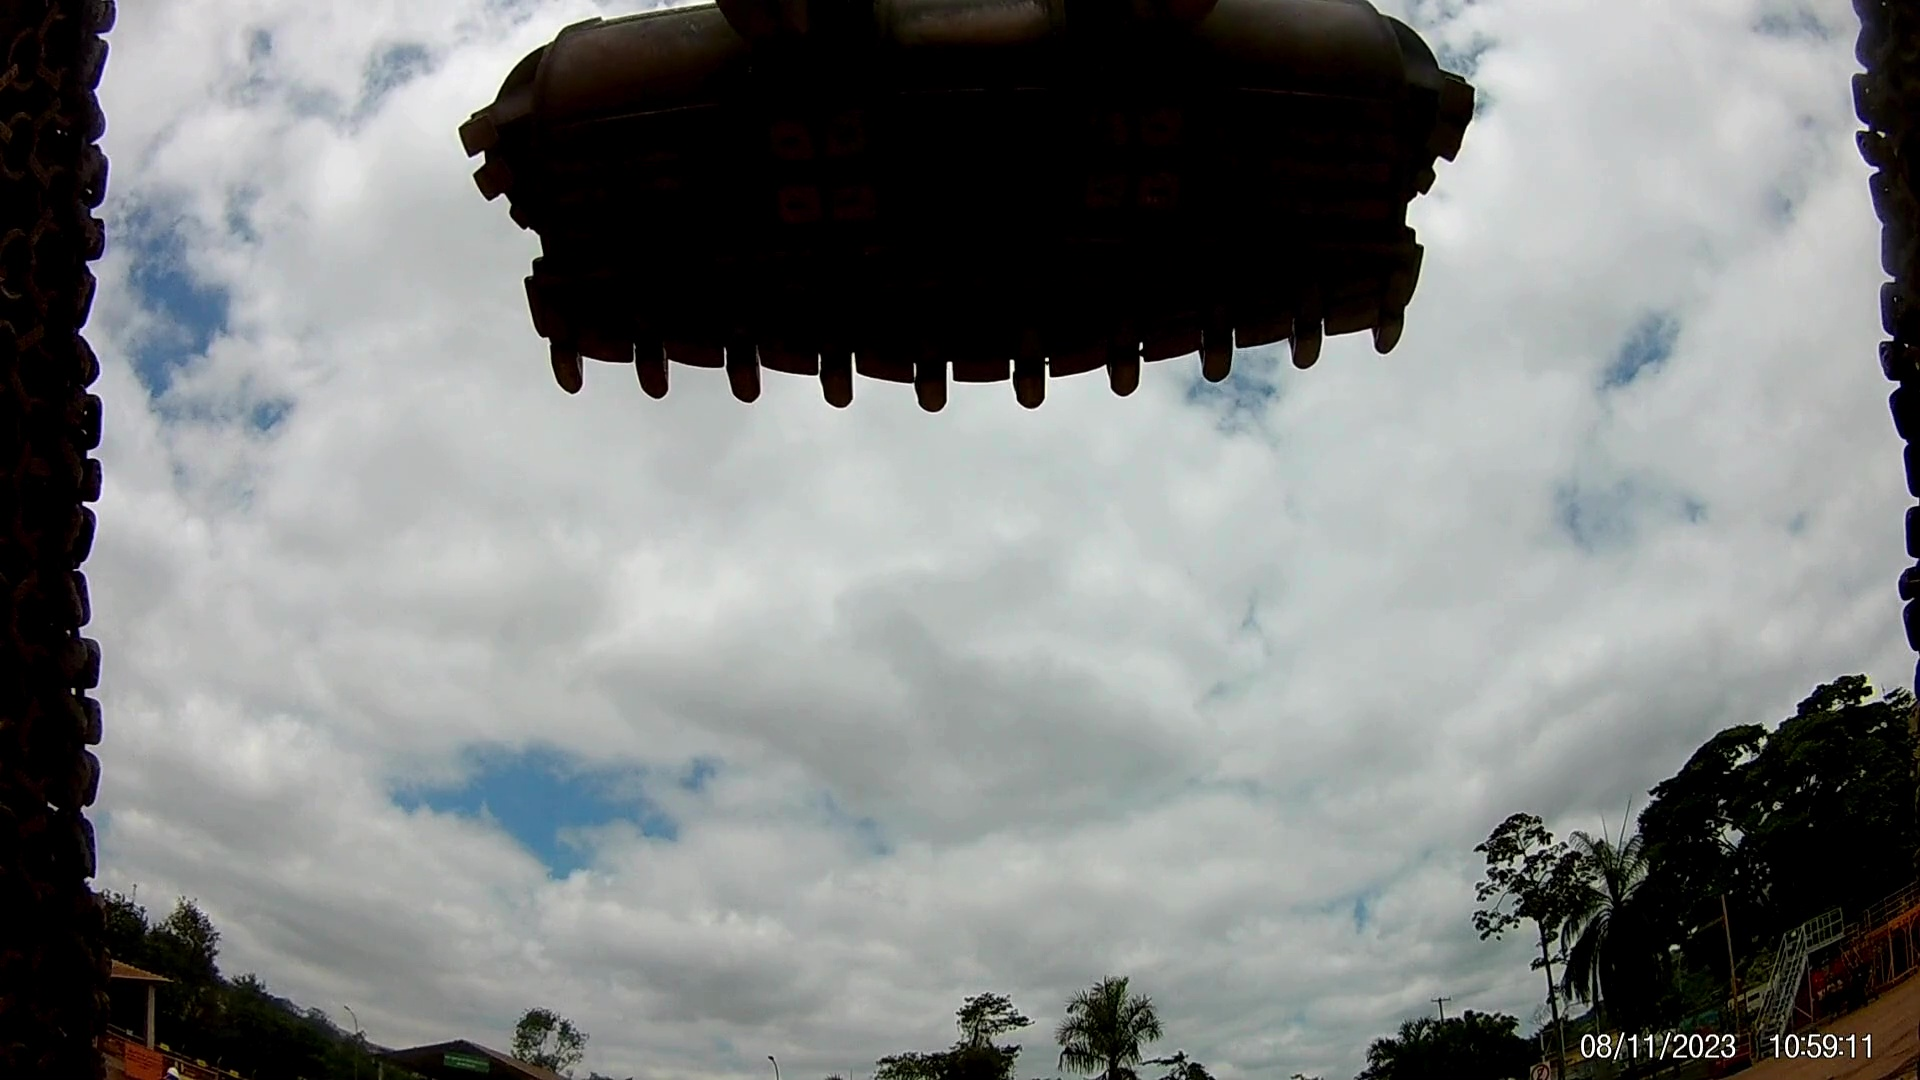FPS: (799, 336, 870, 422), (1189, 301, 1244, 398), (897, 355, 961, 429), (1106, 324, 1163, 398), (1000, 353, 1063, 415), (626, 336, 680, 407), (720, 353, 777, 415), (1361, 301, 1418, 363), (1275, 307, 1325, 376), (542, 349, 592, 392)
